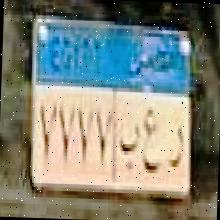7: (36, 98, 56, 170), (74, 106, 95, 166), (93, 105, 113, 166), (56, 102, 74, 162)
ain: (138, 102, 162, 179)
baa: (116, 113, 140, 176)
raa: (165, 122, 185, 176)
